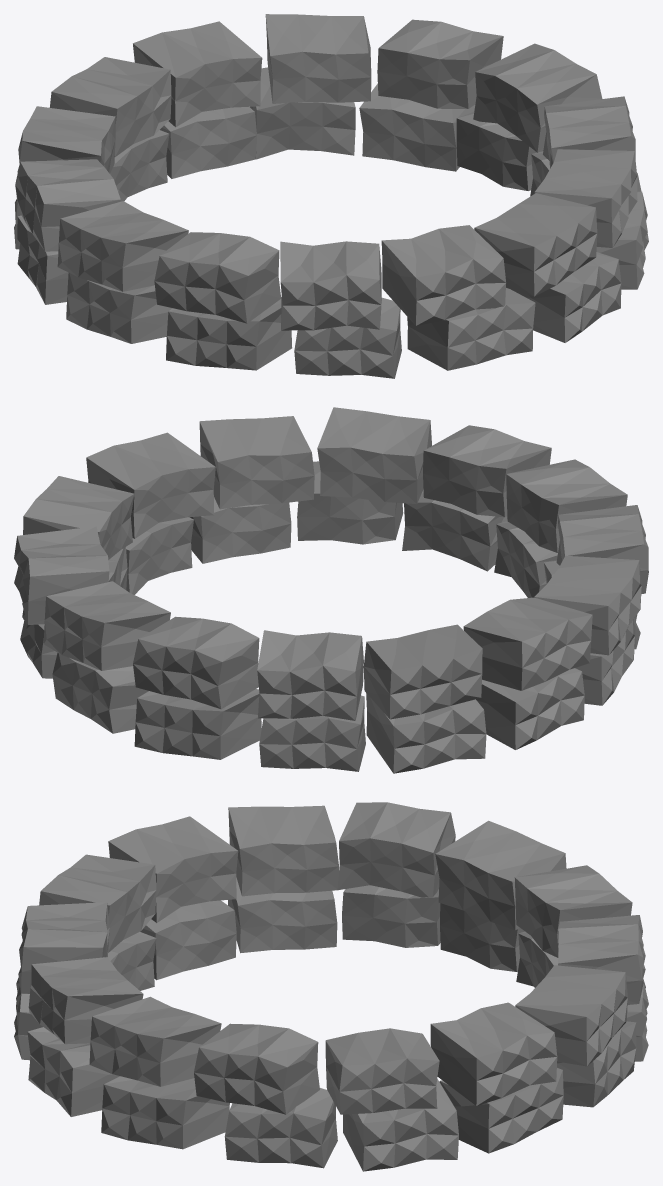
File: rockbarrier_01_b.fbx
3 renders of one model, top to bottom at view 1: azimuth 30°, elevation 25°; view 2: azimuth 150°, elevation 25°; view 3: azimuth 270°, elevation 25°, orthographic.
Parts seen in each view (by area): view 1: RockBarrier_01_b; view 2: RockBarrier_01_b; view 3: RockBarrier_01_b.
Boxes of the visible parts, x1,y1,x2,y2 form: RockBarrier_01_b: (14,14,648,378); RockBarrier_01_b: (14,407,648,773); RockBarrier_01_b: (14,802,648,1171).
Bounding box in the file's own units: 103 × 103 × 20.19.
